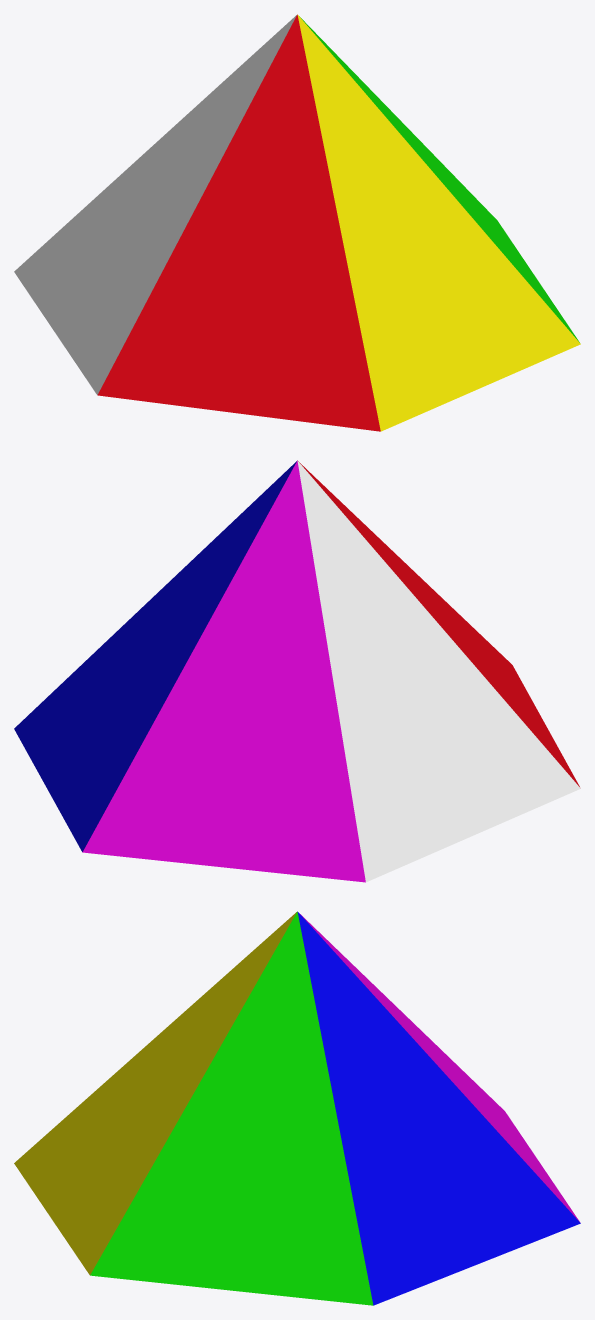
File: limas-segienam.glb
3 renders of one model, top to bottom at view 1: azimuth 30°, elevation 25°; view 2: azimuth 150°, elevation 25°; view 3: azimuth 270°, elevation 25°, orthographic. The views are drawn at different scales.
Visible parts, largest first — view 1: Mesh_Mesh_head_geo.001_lambert2SG.001; view 2: Mesh_Mesh_head_geo.001_lambert2SG.001; view 3: Mesh_Mesh_head_geo.001_lambert2SG.001.
Boxes of the visible parts, <box> form: Mesh_Mesh_head_geo.001_lambert2SG.001: <box>14,14,580,431</box>; Mesh_Mesh_head_geo.001_lambert2SG.001: <box>14,460,580,882</box>; Mesh_Mesh_head_geo.001_lambert2SG.001: <box>14,911,580,1305</box>.
Size of the model in its own units: 10.25 by 6 by 10.93.
